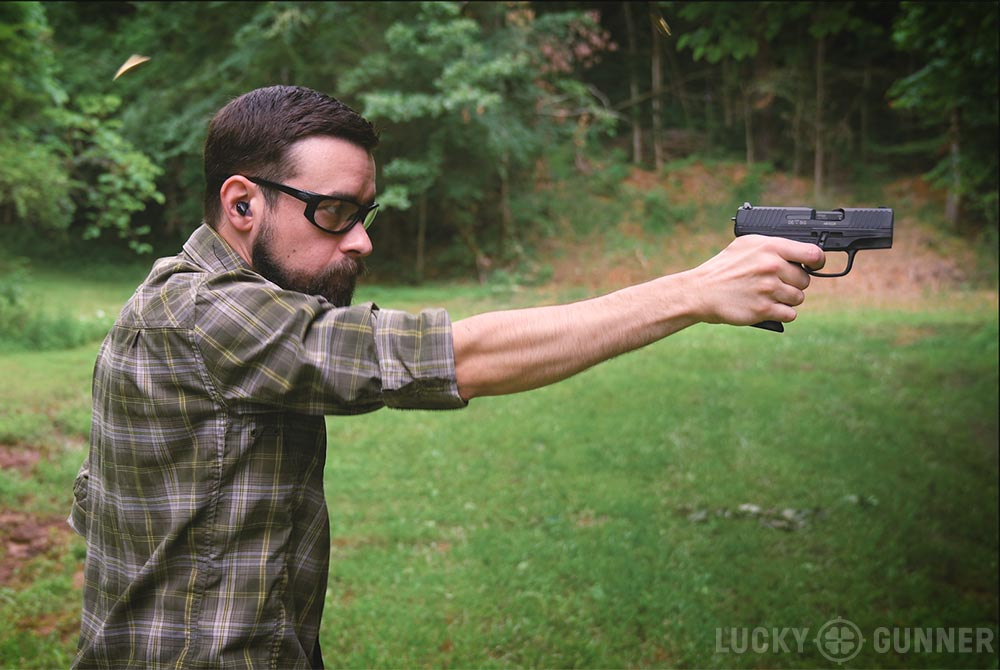Gun: (725, 188, 908, 267)
